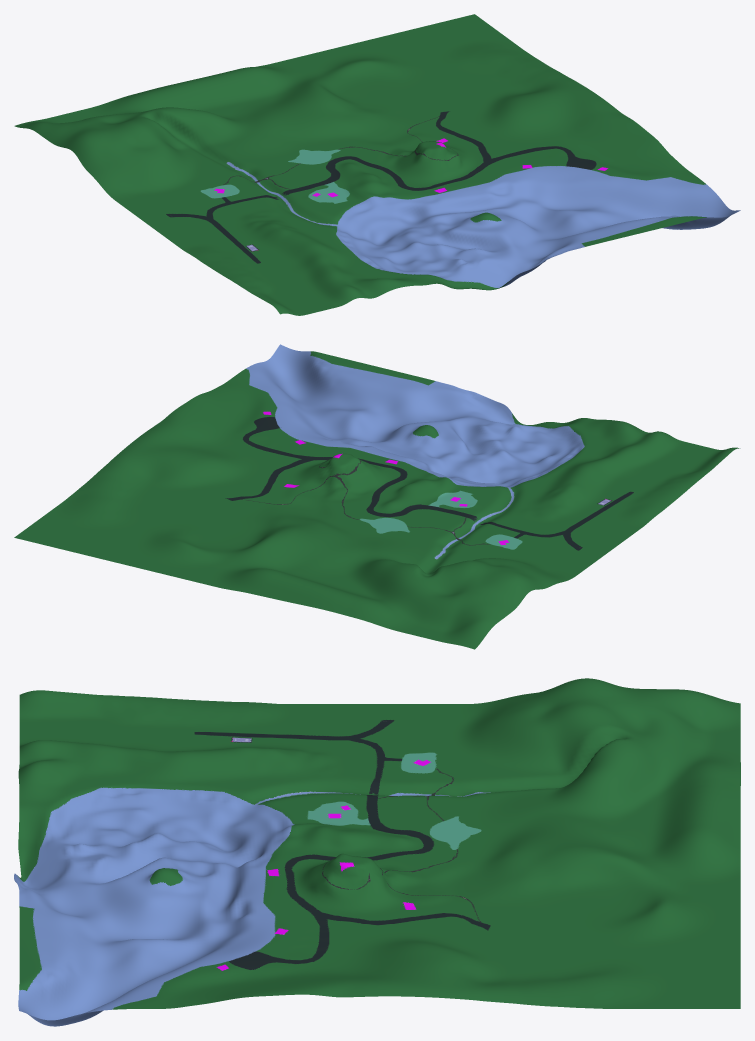
The model's file is groundV1.glb.
3 renders of one model, top to bottom at view 1: azimuth 30°, elevation 25°; view 2: azimuth 150°, elevation 25°; view 3: azimuth 270°, elevation 25°, orthographic. The views are drawn at different scales.
Parts seen in each view (by area): view 1: ground; view 2: ground; view 3: ground.
Boxes of the visible parts, <box> form: ground: <box>14,14,740,315</box>; ground: <box>14,344,740,649</box>; ground: <box>14,678,740,1026</box>.
Bounding box in the file's own units: 38.51 × 4.38 × 38.79.
Materials: 1 (1 with a texture image).
